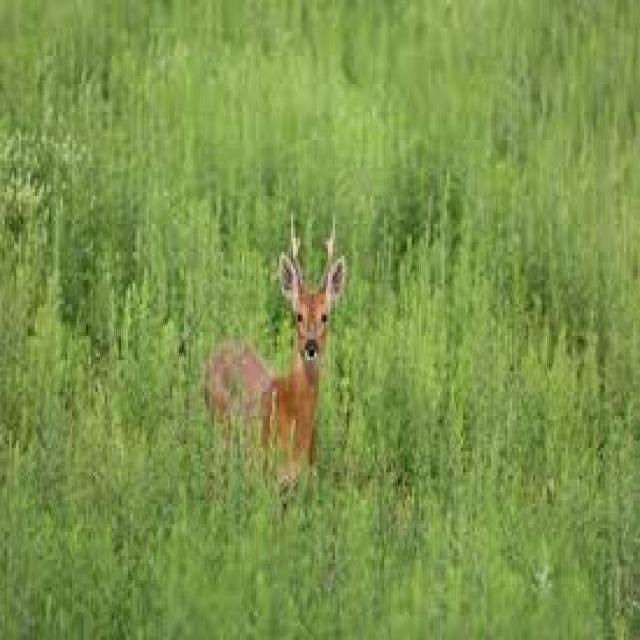deer: (195, 212, 359, 463)
